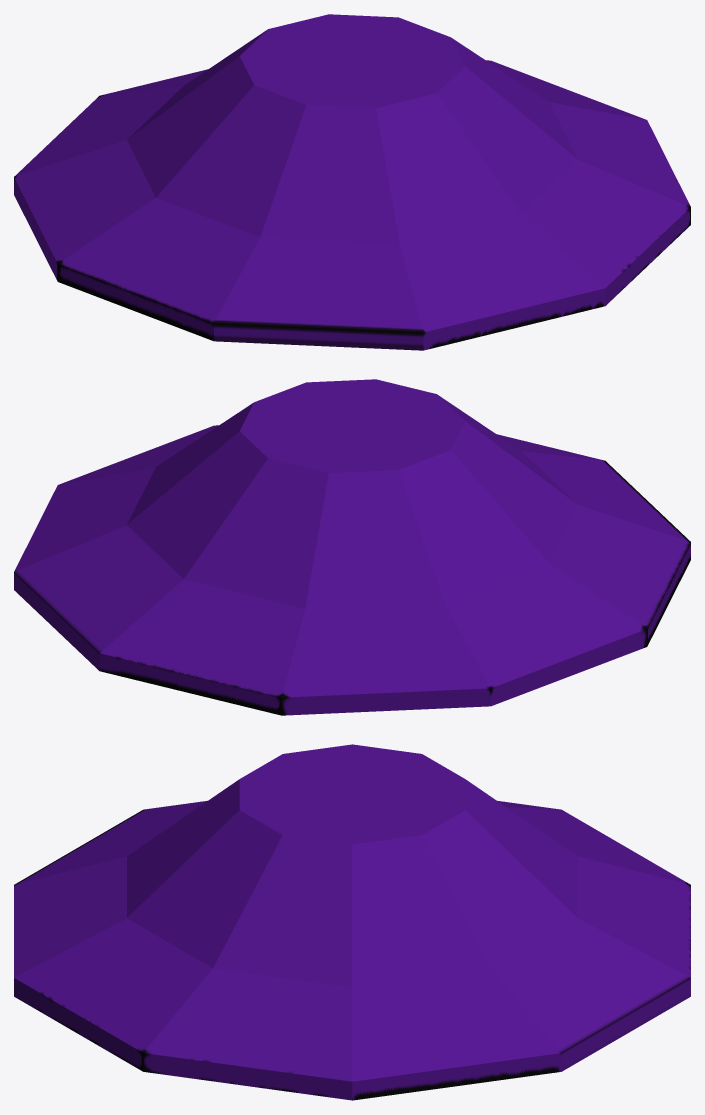
File: TapaContenedorFBX.fbx
3 views of the same model, one above another, from view 1: azimuth 30°, elevation 25°; view 2: azimuth 150°, elevation 25°; view 3: azimuth 270°, elevation 25° (orthographic). The views are drawn at different scales.
Parts seen in each view (by area): view 1: Tapa; view 2: Tapa; view 3: Tapa.
Part boxes in pixels (<box>): Tapa: <box>14,14,690,350</box>; Tapa: <box>14,379,690,715</box>; Tapa: <box>14,744,690,1100</box>.
Bounding box in the file's own units: 200 × 48.23 × 190.
1 material, 1 textured.
